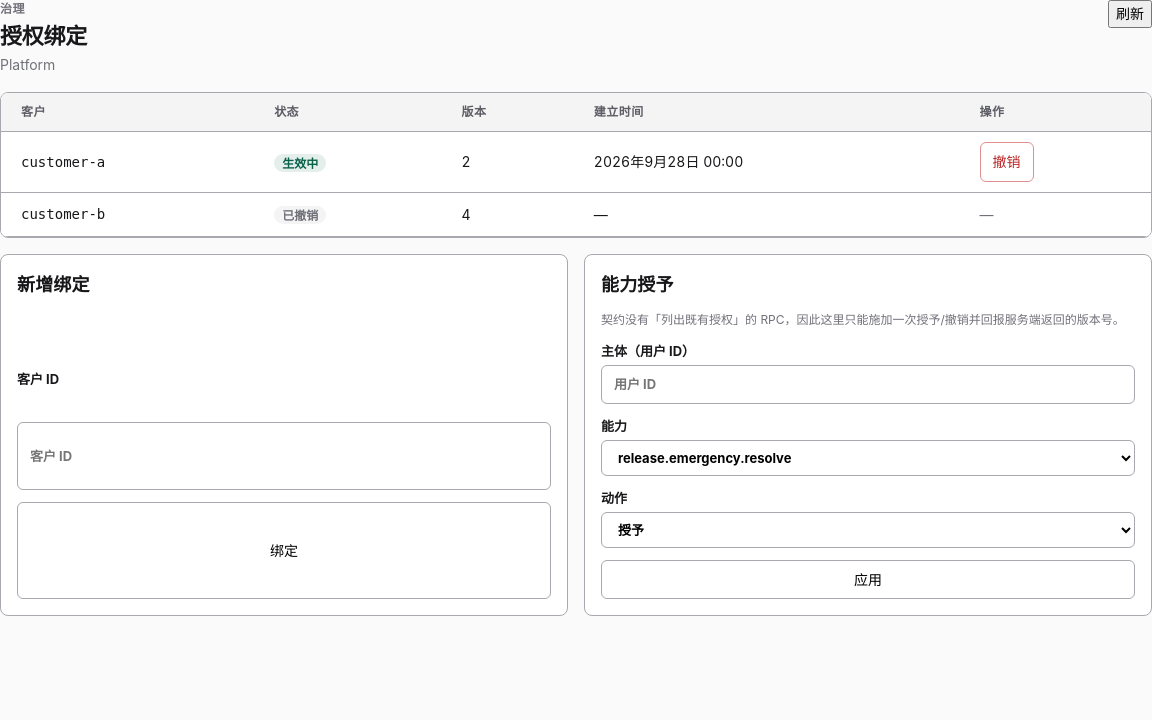
Scenario: BindingsPage › revokes once, with the binding id and version, only after confirming
What coordinates should you click on to do the following:
click the button "撤销"
I would click on:
 (1006, 162)
Its box is [980,142,1034,182].
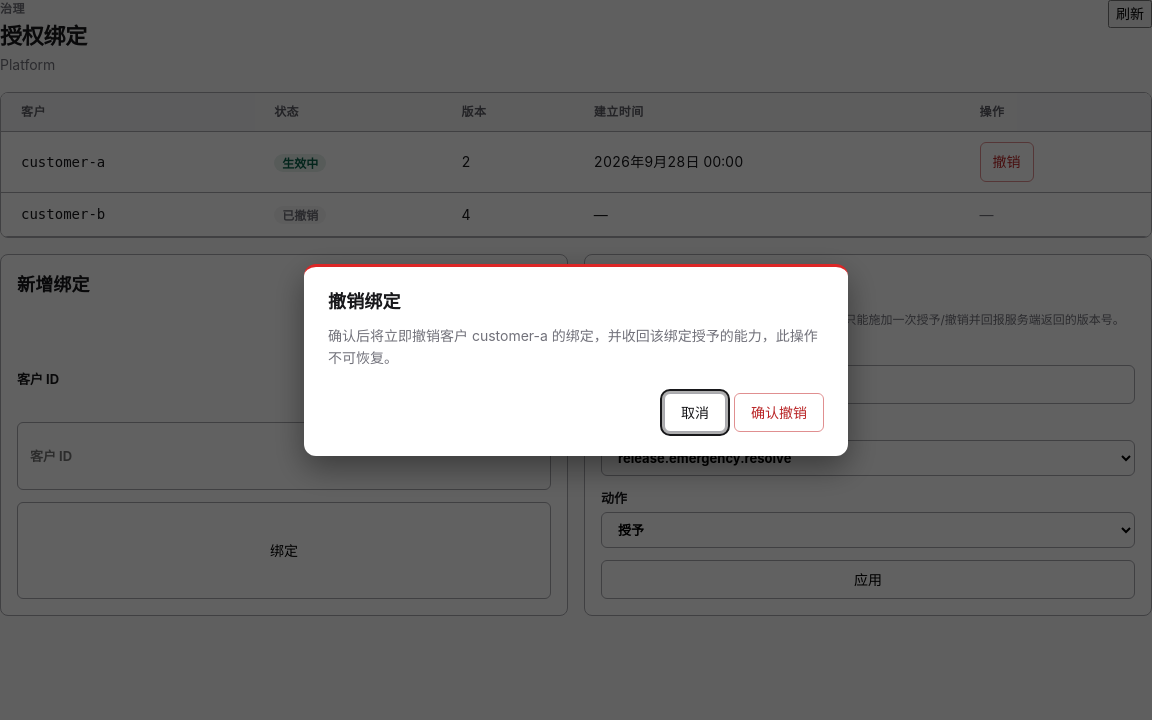
Expected: the text with class "app-dialog__description" reads "确认后将立即撤销客户 customer-a 的绑定，并收回该绑定授予的能力，此操作不可恢复。", [328,327,818,366]
What coordinates should you click on to do the following:
click the button "确认撤销"
I would click on:
 (779, 412)
Its box is [734,393,824,432].
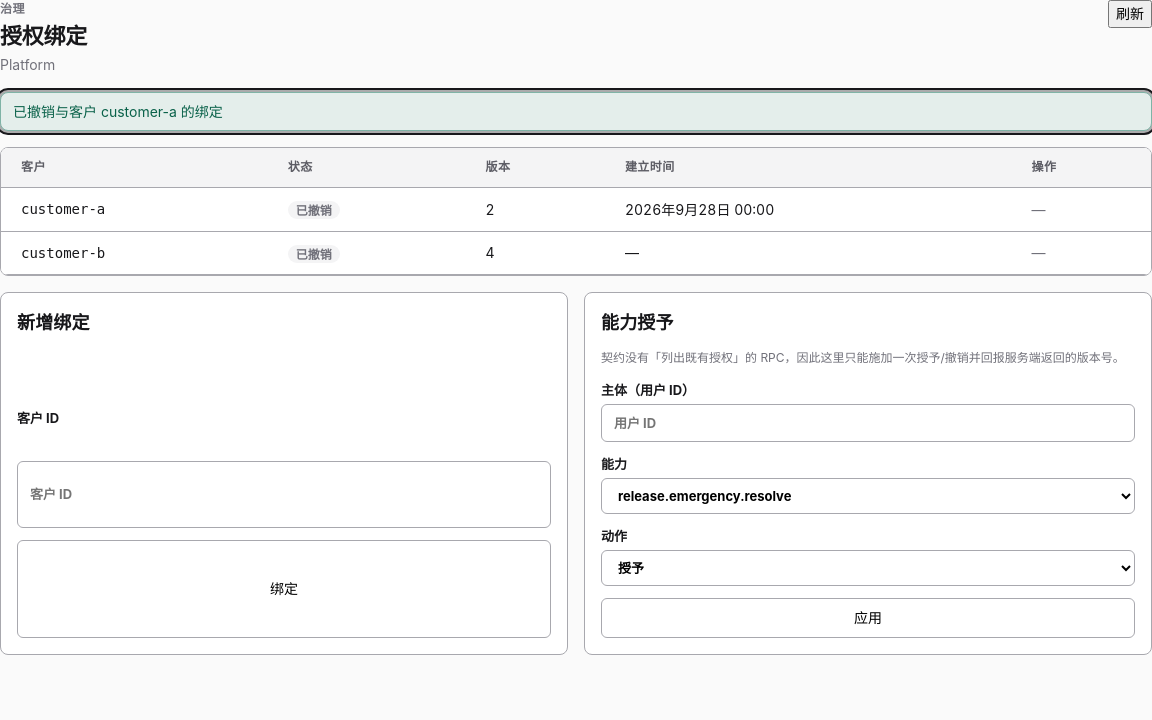
Expected: the row with test id "binding-row-customer-a" shows "已撤销", [296,203,332,218]
Expected: the dialog is gone
